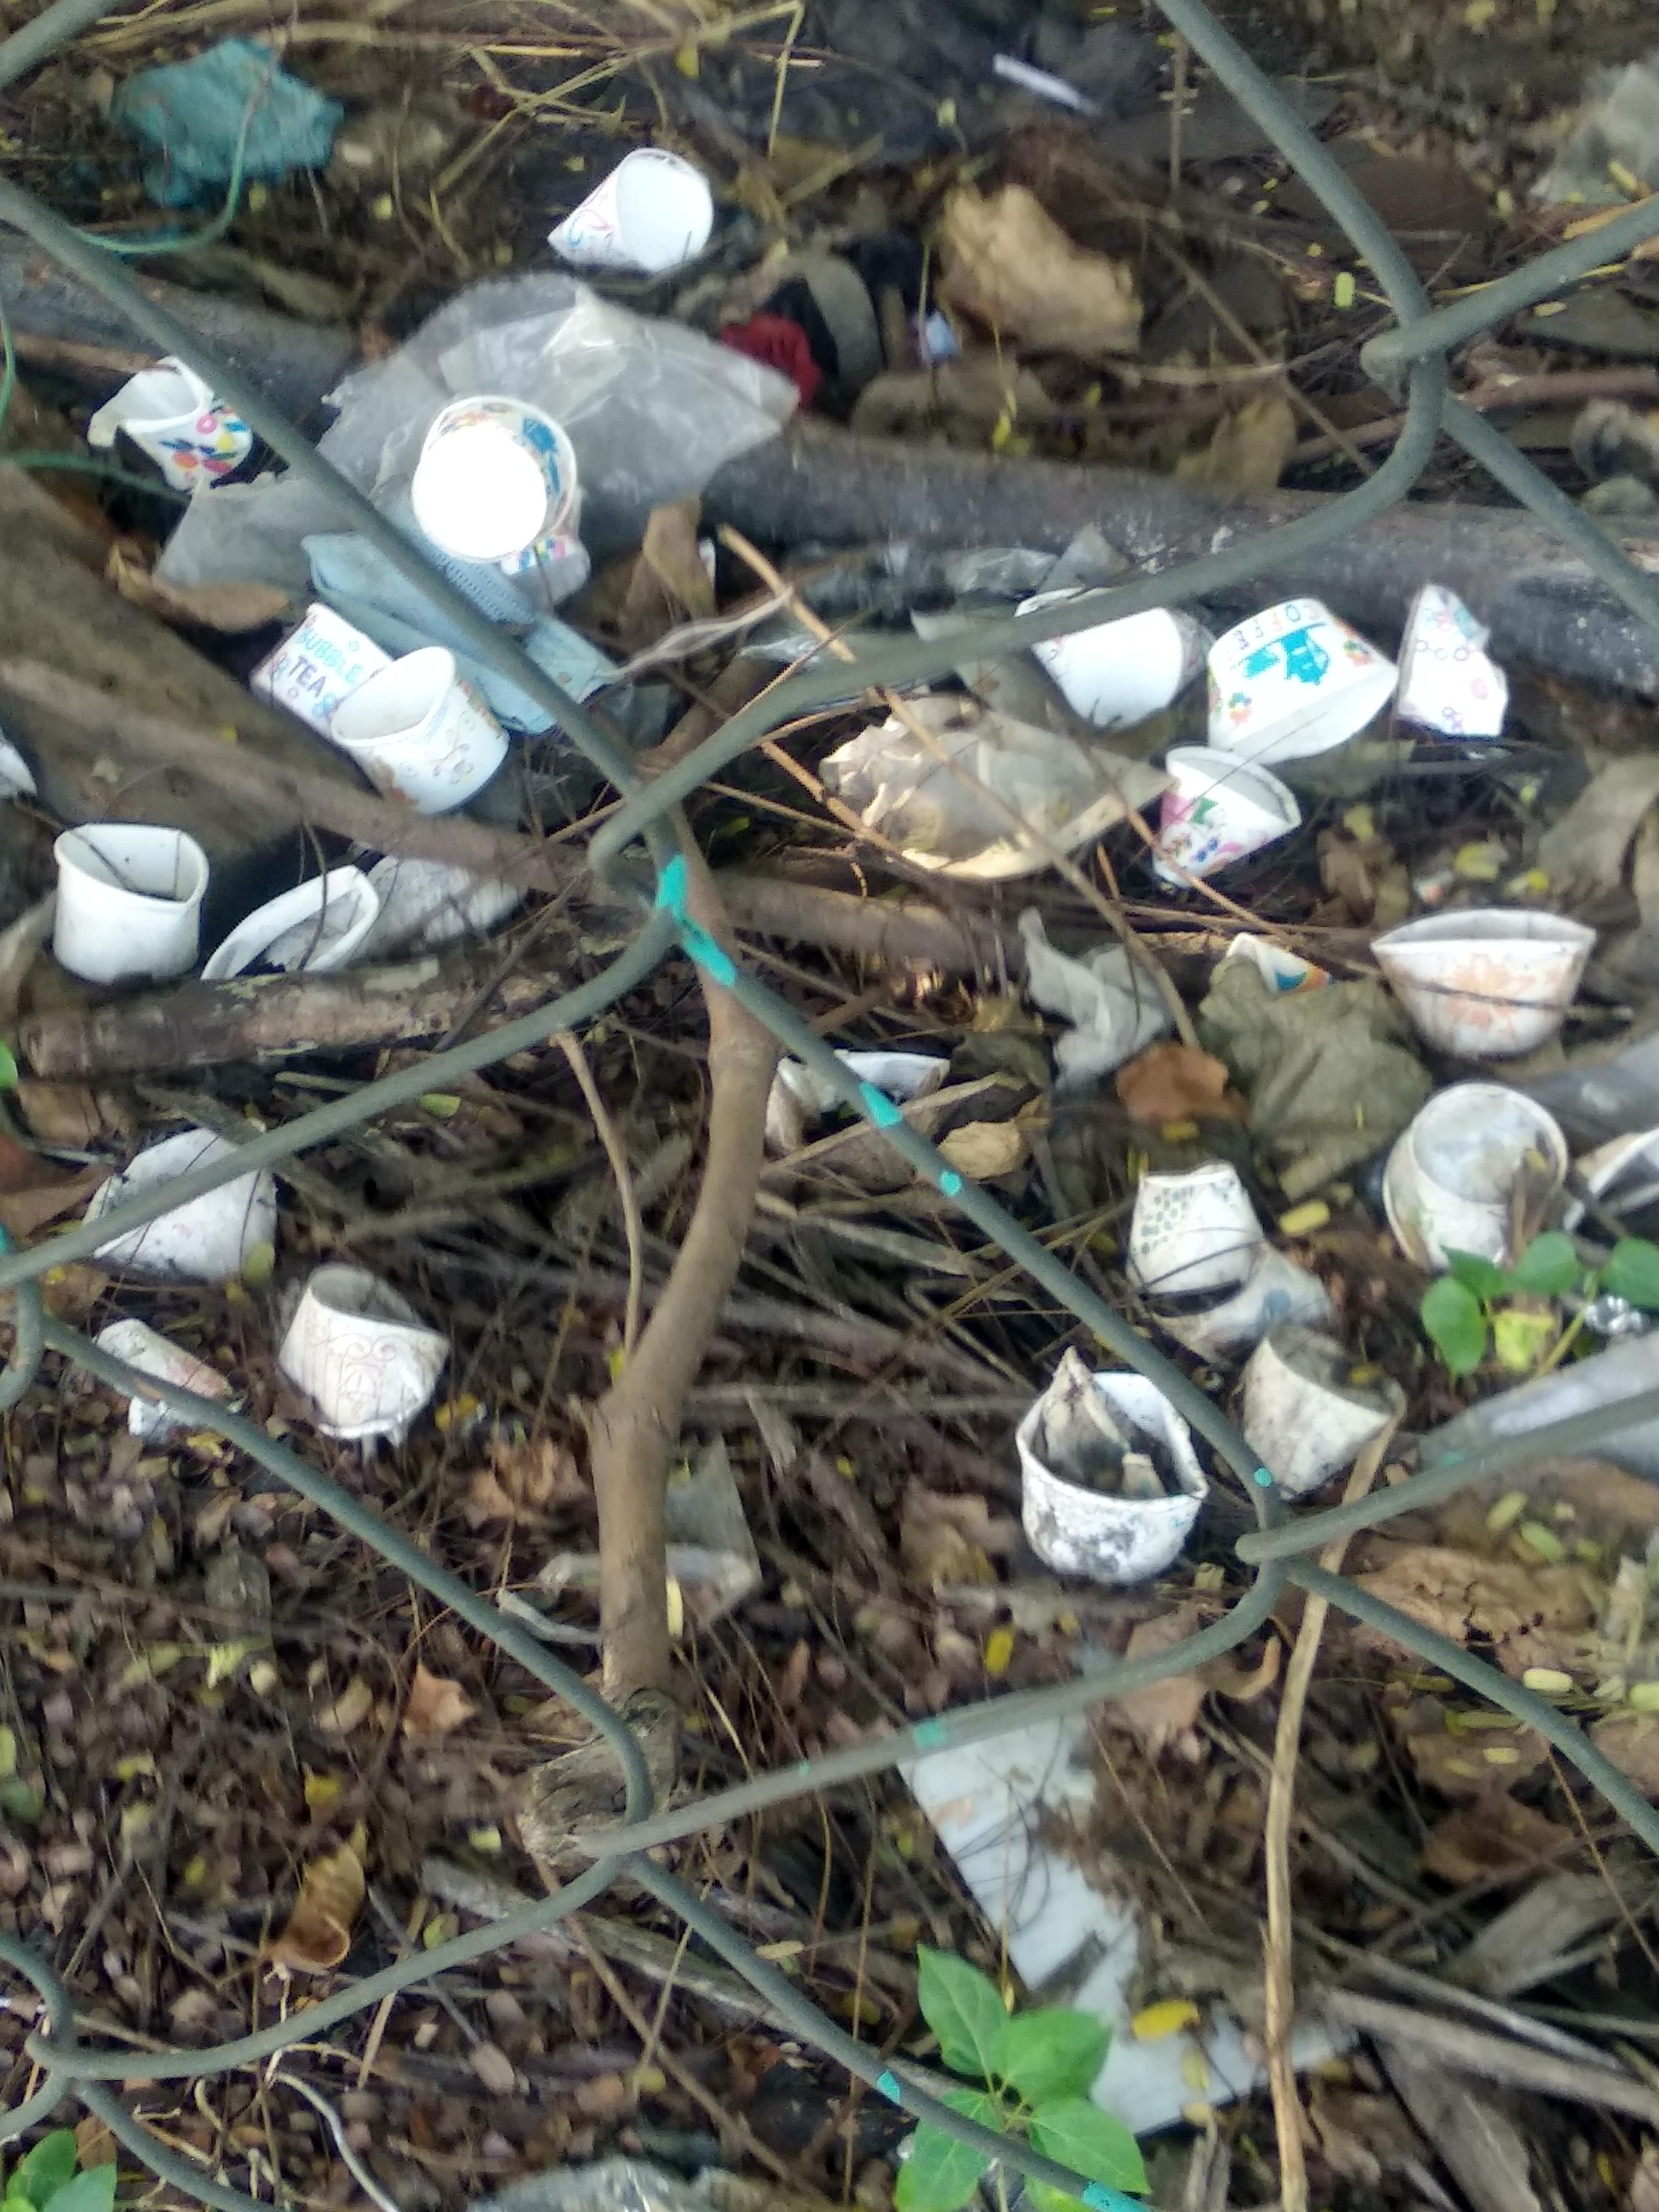trash: (59, 139, 1659, 1615)
